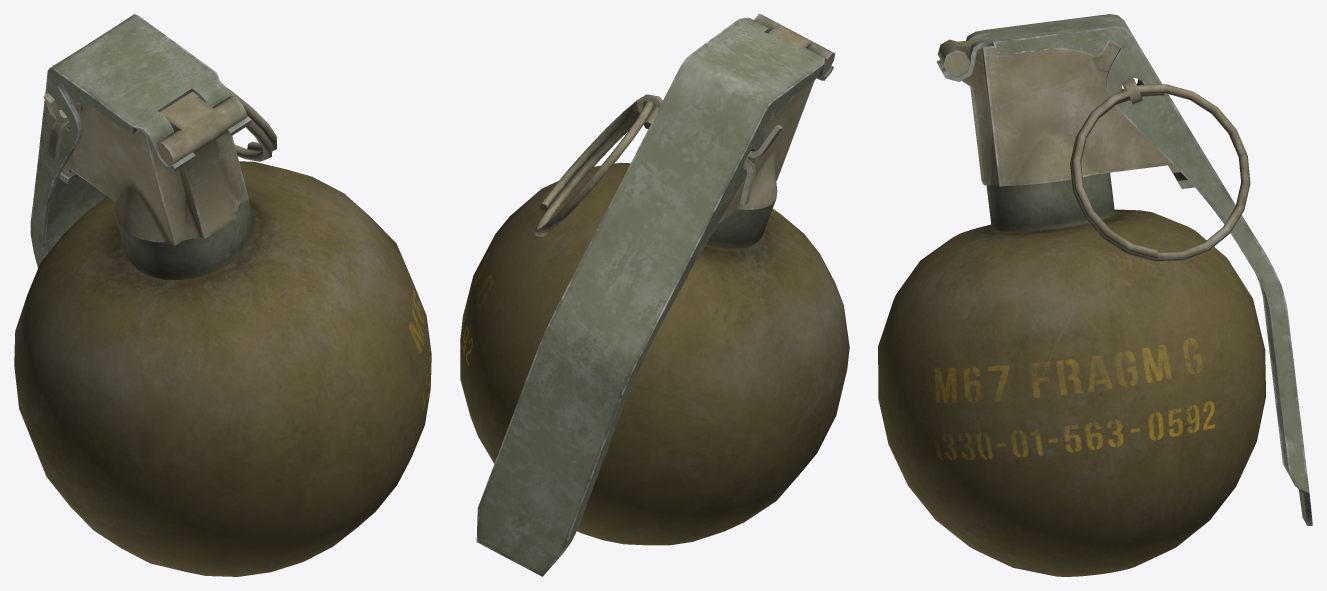
File: m67_hand_grenade.glb
3 renders of one model, left to right at view 1: azimuth 30°, elevation 25°; view 2: azimuth 150°, elevation 25°; view 3: azimuth 270°, elevation 25°, orthographic. The views are drawn at different scales.
Parts seen in each view (by area): view 1: low; view 2: low; view 3: low.
Boxes of the visible parts, bbox=[...] form: low: bbox=[14, 14, 431, 576]; low: bbox=[460, 14, 849, 576]; low: bbox=[878, 14, 1312, 576].
Size of the model in its own units: 0.1888 by 0.2687 by 0.2103.
1 material, 1 textured.
